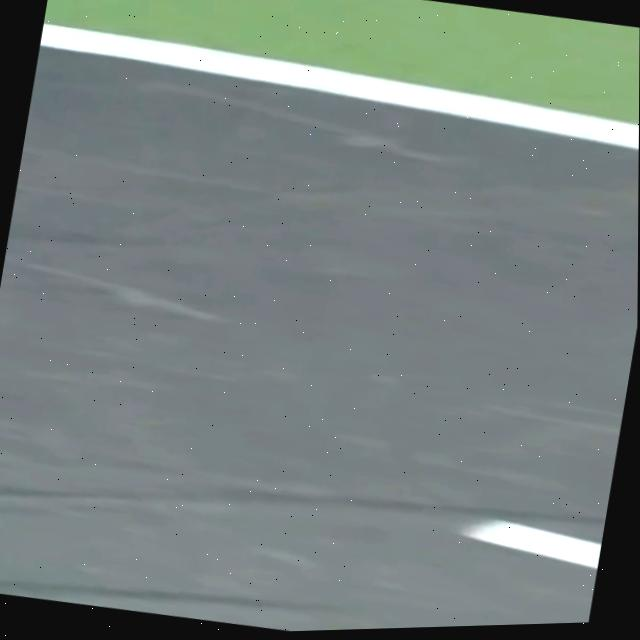center: (461, 521, 601, 569)
right: (40, 25, 639, 151)
